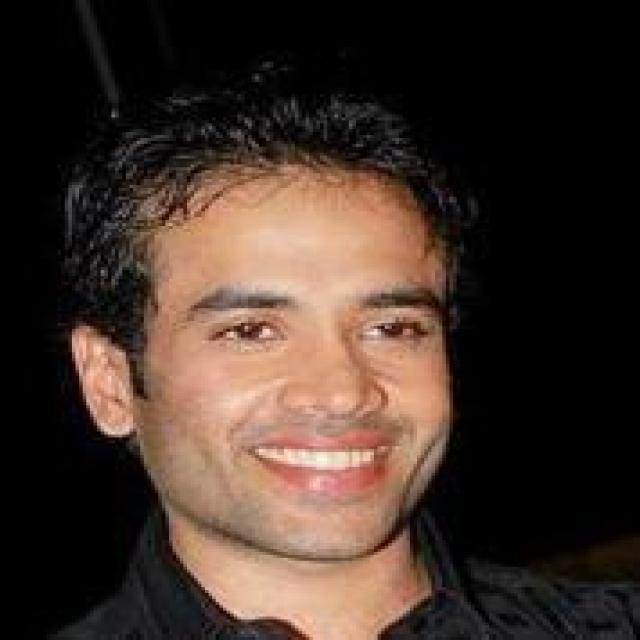bareface: (168, 188, 450, 538)
